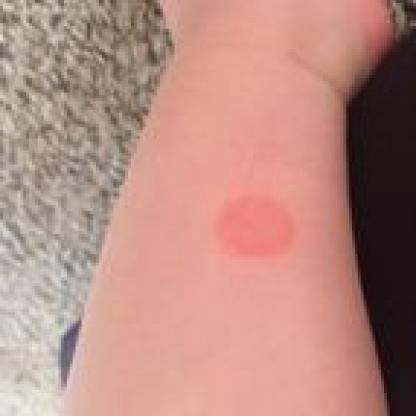Tick: (212, 193, 302, 266)
